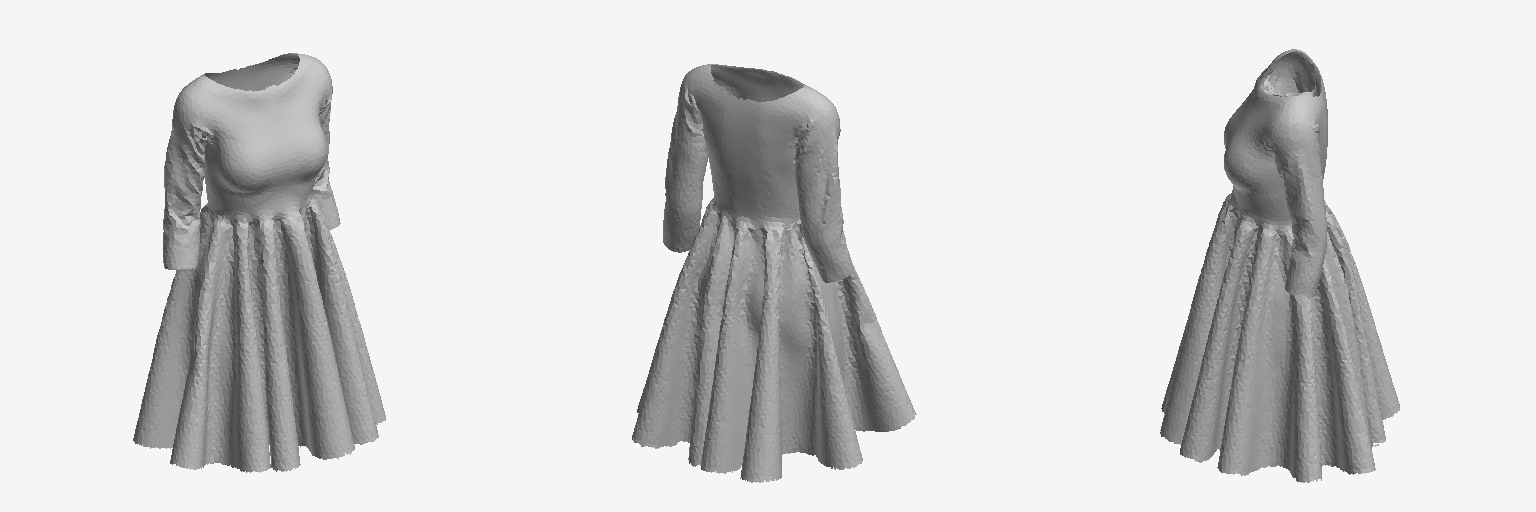
Rendered from dress-v17k-f34k.obj.
The picture shows the model from 3 angles: view 1: azimuth 30°, elevation 25°; view 2: azimuth 150°, elevation 25°; view 3: azimuth 270°, elevation 25°; orthographic projection.
Size of the model in its own units: 23.76 by 36.31 by 21.5.